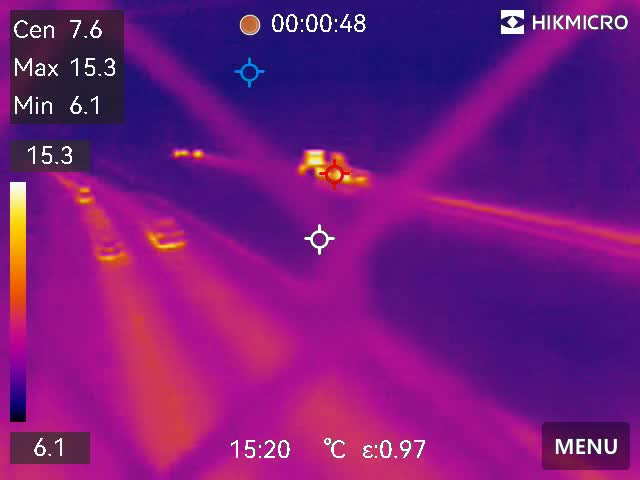heavyTruck: (297, 149, 371, 185)
vehicle: (141, 218, 190, 251)
